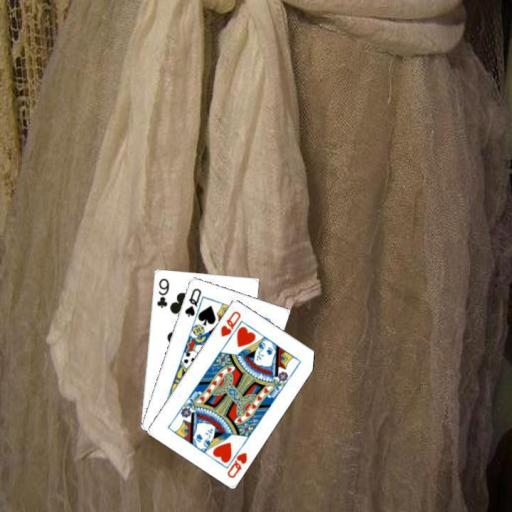card-corner: (223, 442, 248, 479), (181, 284, 203, 318), (218, 307, 242, 338), (154, 274, 170, 310)
